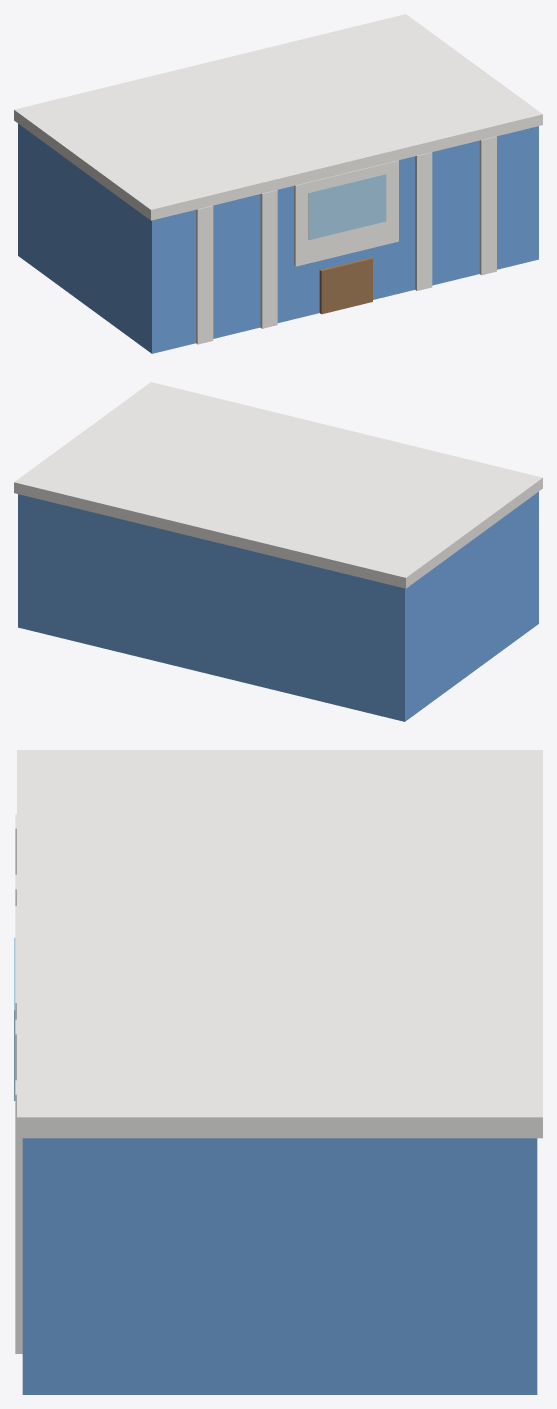
The model's file is Bld_PasarSeni.fbx.
The picture shows the model from 3 angles, top to bottom: view 1: azimuth 30°, elevation 25°; view 2: azimuth 150°, elevation 25°; view 3: azimuth 270°, elevation 25°; orthographic projection. The views are drawn at different scales.
Visible parts, largest first — view 1: Bld_PasarSeni; view 2: Bld_PasarSeni; view 3: Bld_PasarSeni.
Part boxes in pixels (left/top/right/bottom): Bld_PasarSeni: left=14, top=14, right=542, bottom=353; Bld_PasarSeni: left=14, top=382, right=542, bottom=721; Bld_PasarSeni: left=14, top=750, right=542, bottom=1394.
Size of the model in its own units: 30.4 by 10.8 by 18.5.
